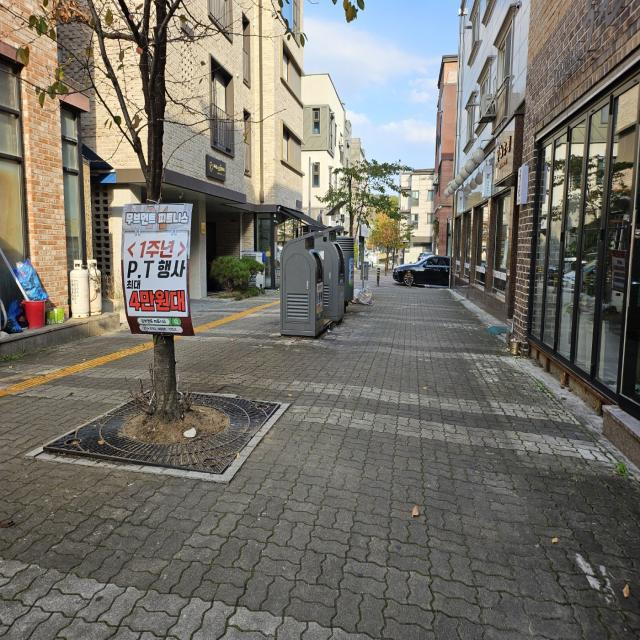CleanNet: (282, 238, 328, 350), (312, 222, 346, 324)
General Waste: (8, 254, 70, 338)
